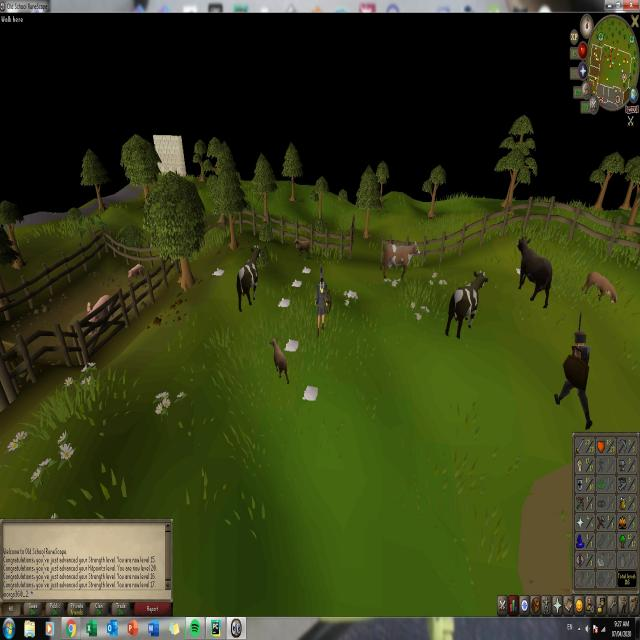cow: (444, 268, 489, 339), (514, 234, 553, 310), (234, 243, 262, 313), (381, 241, 420, 279), (581, 272, 617, 304), (269, 336, 289, 383), (295, 237, 310, 258)
player: (313, 272, 328, 340)
